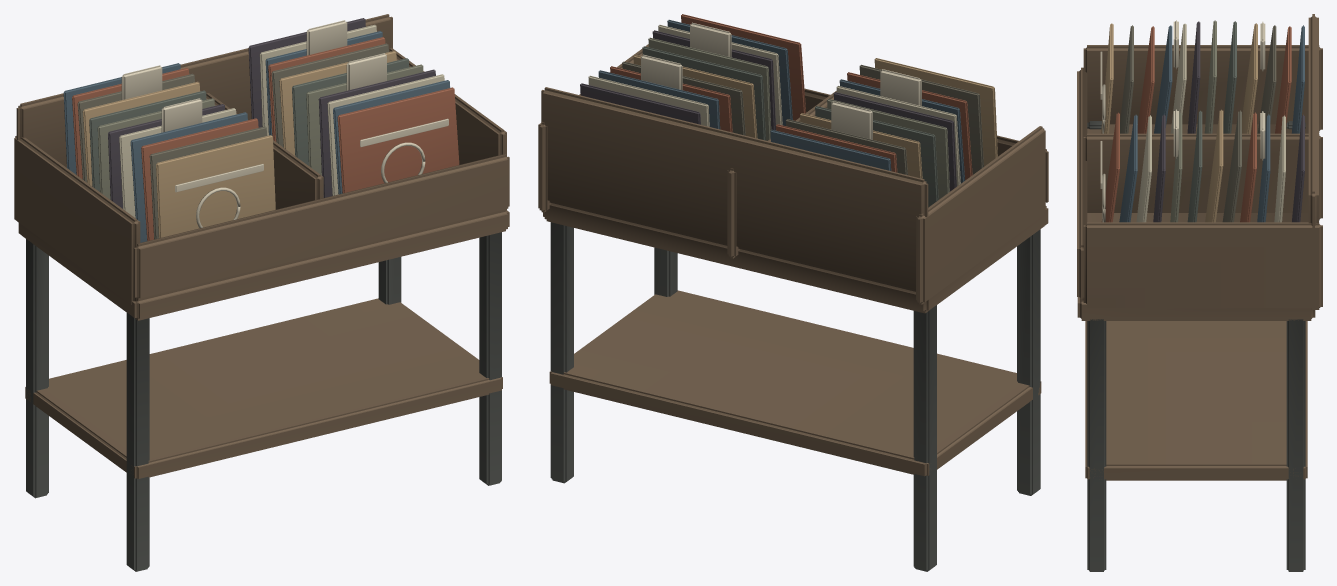
The model's file is record-browser.glb.
3 views of the same model, side by side, from view 1: azimuth 30°, elevation 25°; view 2: azimuth 150°, elevation 25°; view 3: azimuth 270°, elevation 25° (orthographic). The views are drawn at different scales.
Parts seen in each view (by area): view 1: Frame; view 2: Frame; view 3: Frame.
Part boxes in pixels (<box>): Frame: <box>14,14,509,571</box>; Frame: <box>538,14,1048,571</box>; Frame: <box>1077,14,1322,571</box>.
Bounding box in the file's own units: 0.999 × 1.06 × 0.5725.
